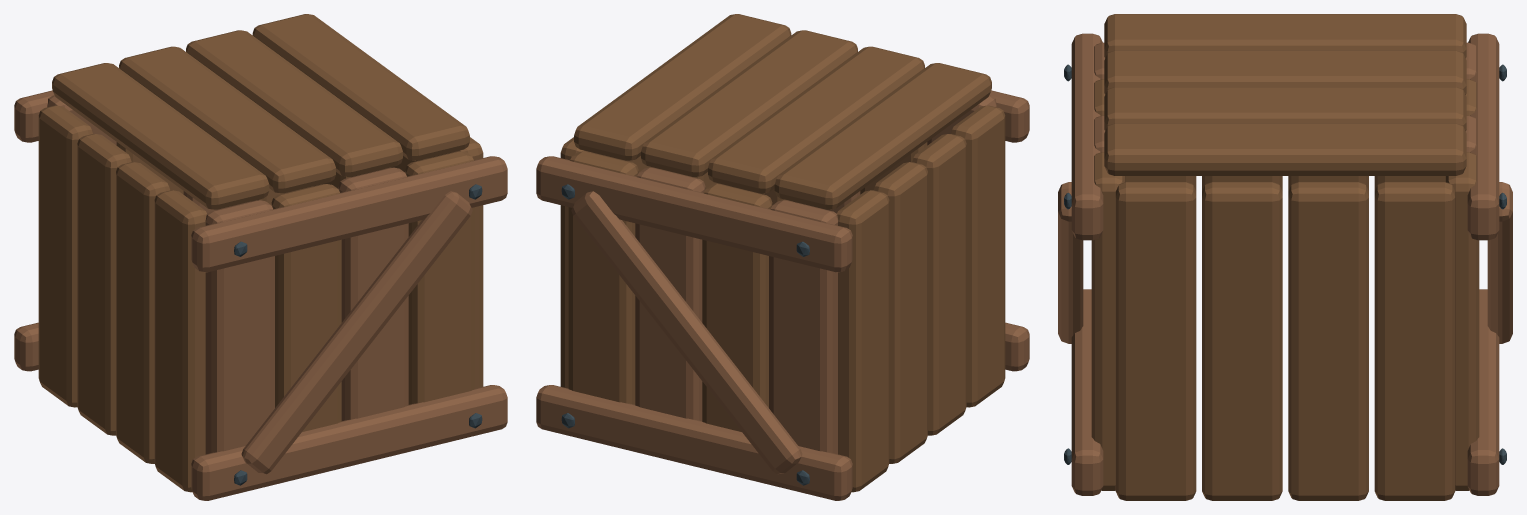
File: supply_crate.glb
3 views of the same model, side by side, from view 1: azimuth 30°, elevation 25°; view 2: azimuth 150°, elevation 25°; view 3: azimuth 270°, elevation 25° (orthographic). The views are drawn at different scales.
Parts seen in each view (by area): view 1: CrateSidePlank.026, CrateFacePlank.026, CrateNail.026; view 2: CrateSidePlank.026, CrateFacePlank.026, CrateNail.026; view 3: CrateSidePlank.026, CrateFacePlank.026, CrateNail.026.
Part boxes in pixels (bbox=[...]): CrateSidePlank.026: bbox=[38, 14, 483, 492]; CrateFacePlank.026: bbox=[14, 90, 507, 500]; CrateNail.026: bbox=[234, 184, 482, 485]; CrateSidePlank.026: bbox=[560, 14, 1005, 492]; CrateFacePlank.026: bbox=[536, 90, 1029, 500]; CrateNail.026: bbox=[561, 184, 809, 485]; CrateSidePlank.026: bbox=[1091, 14, 1479, 500]; CrateFacePlank.026: bbox=[1058, 33, 1512, 495]; CrateNail.026: bbox=[1064, 64, 1506, 464].
Size of the model in its own units: 0.95 by 0.895 by 1.08.
